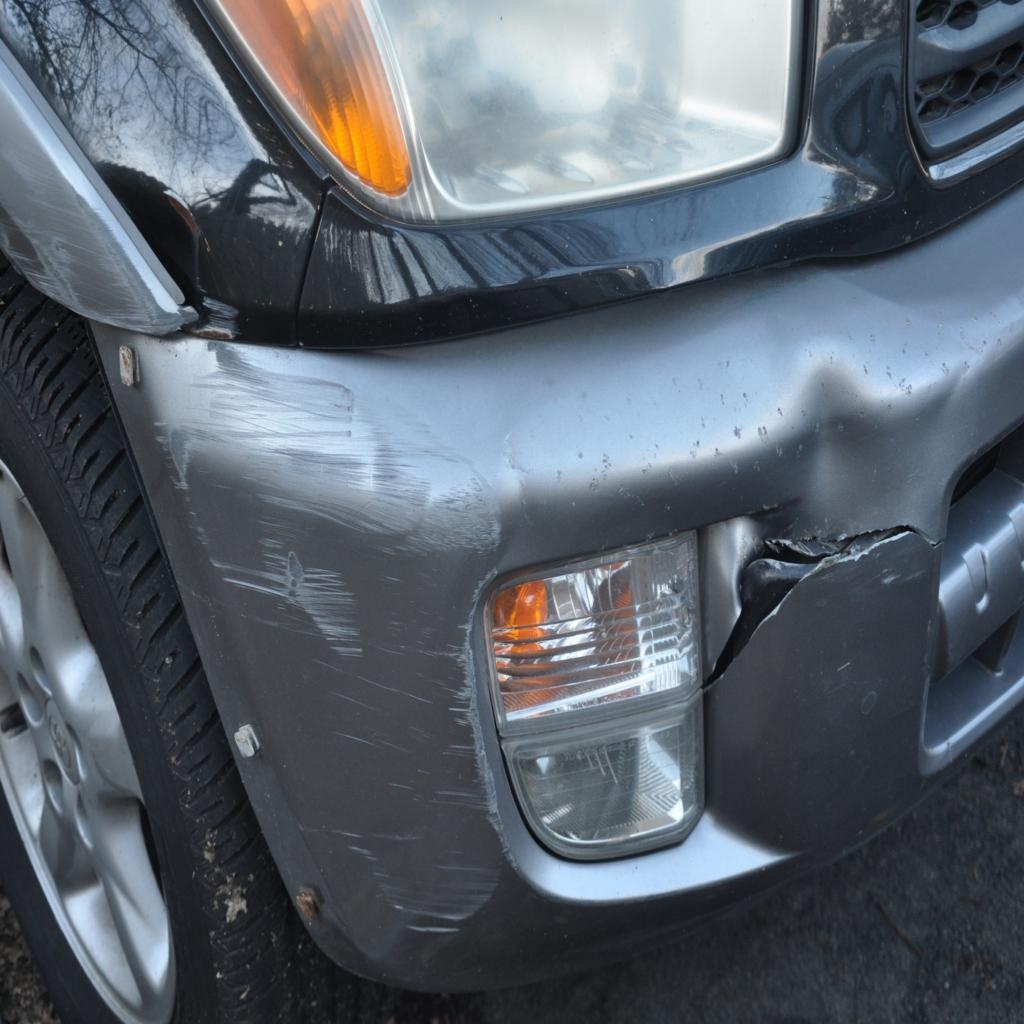Dent: (642, 360, 1000, 741), (69, 137, 279, 399)
Scratch: (152, 347, 561, 991), (7, 195, 161, 354)
